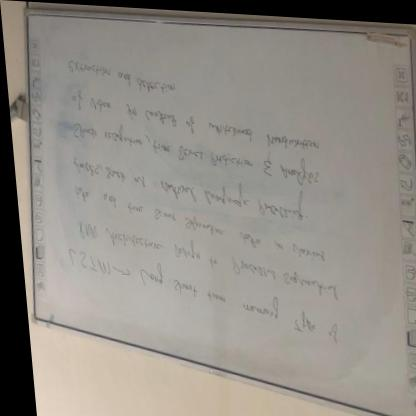Handwritten text: (45, 237, 355, 361), (57, 178, 336, 273), (64, 216, 346, 305), (60, 111, 326, 195), (62, 81, 324, 161), (60, 152, 318, 230), (55, 48, 184, 101)
Whiteboard: (24, 13, 416, 416)
